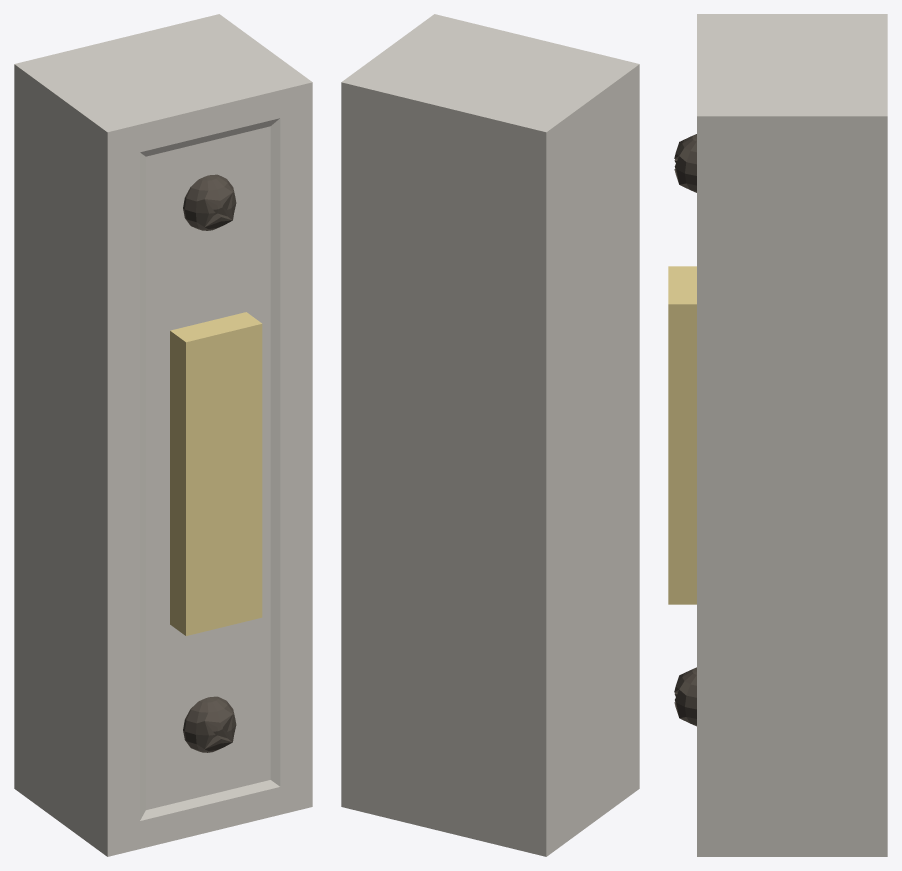
File: door_bell.glb
3 renders of one model, left to right at view 1: azimuth 30°, elevation 25°; view 2: azimuth 150°, elevation 25°; view 3: azimuth 270°, elevation 25°, orthographic. The views are drawn at different scales.
Parts seen in each view (by area): view 1: Doorbell_0, Button_3, Screw.001_1, Screw_2; view 2: Doorbell_0; view 3: Doorbell_0, Button_3, Screw.001_1, Screw_2.
Boxes of the visible parts, <box> form: Doorbell_0: <box>14,14,312,856</box>; Button_3: <box>170,312,262,635</box>; Screw.001_1: <box>183,174,236,230</box>; Screw_2: <box>183,696,236,752</box>; Doorbell_0: <box>341,14,639,856</box>; Doorbell_0: <box>697,14,887,856</box>; Button_3: <box>668,266,696,604</box>; Screw.001_1: <box>674,134,696,192</box>; Screw_2: <box>674,667,696,726</box>.
Size of the model in its own units: 0.5928 by 2 by 0.5373.
